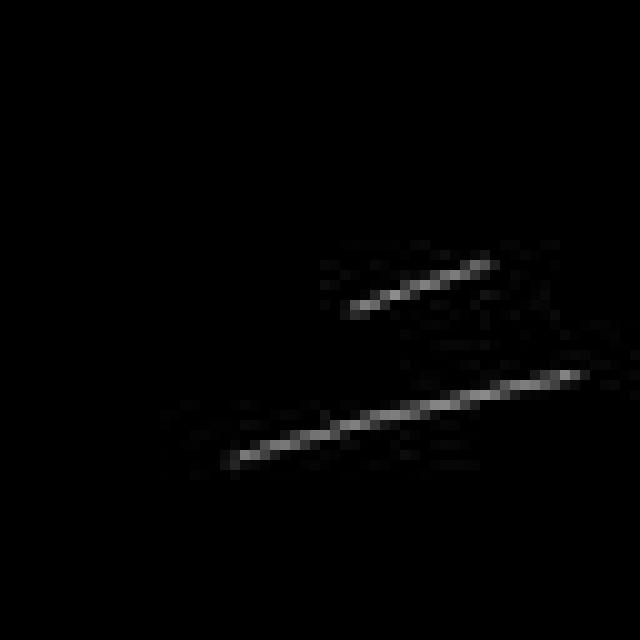2 -two-: (215, 245, 588, 477)
